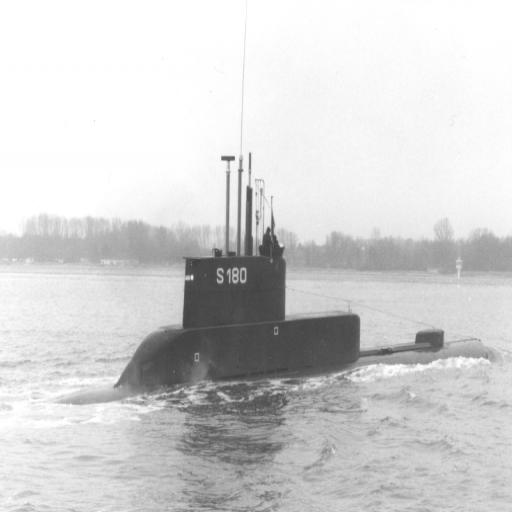submarine: (47, 252, 502, 407)
